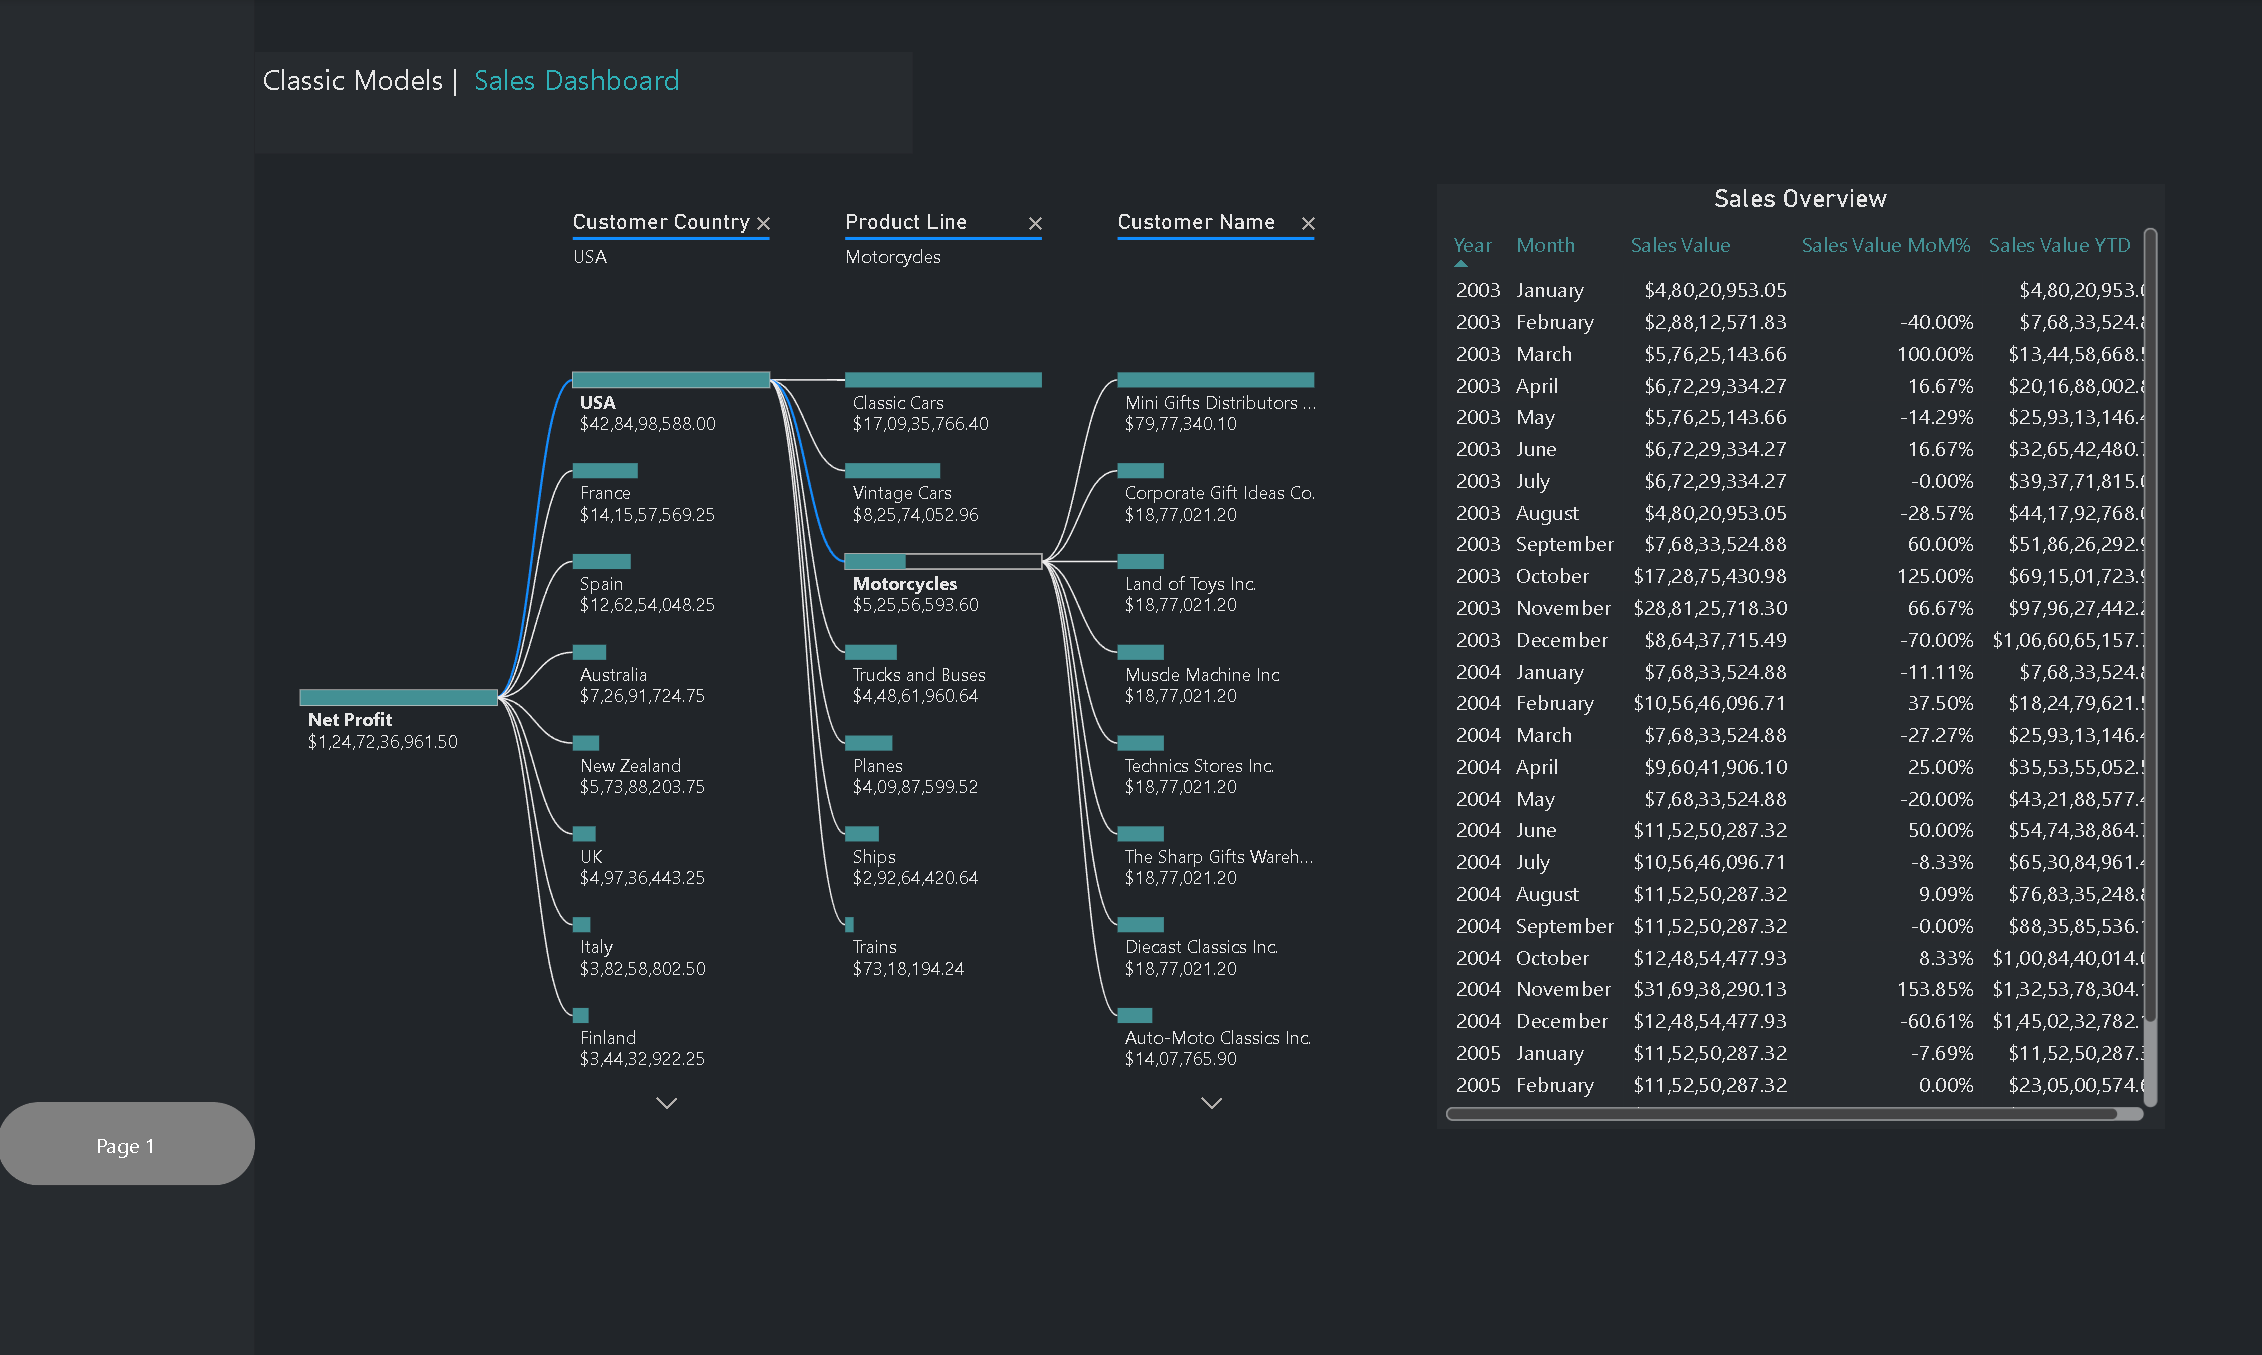

What the dashboard file says about the page in this screenshot:
{"tool":"powerbi","page":{"name":"Sales Overview Page 2","canvas":[1500,900],"ordinal":0},"visuals":[{"type":"shape","box":[0,0,170,899.6],"z":0},{"type":"decompositionTreeVisual","fields":{"Analyze":["classicmodelss sales_data_for_power_bi.Net Profit"],"ExplainBy":["classicmodelss sales_data_for_power_bi.customer_country","classicmodelss sales_data_for_power_bi.productLine","classicmodelss sales_data_for_power_bi.customerName"]},"box":[170.7,122.4,746.6,656.9],"z":1000},{"type":"textbox","box":[170.7,36.2,434.5,67.2],"z":2000},{"type":"tableEx","title":"Sales Overview","fields":{"Values":["classicmodelss sales_data_for_power_bi.orderDate.Variation.Date Hierarchy.Year","classicmodelss sales_data_for_power_bi.orderDate.Variation.Date Hierarchy.Month","Sum(classicmodelss sales_data_for_power_bi.sales_value)","Table.sales_value MoM%","Table.sales_value YTD"]},"box":[951.7,122.4,481,624.1],"z":3000},{"type":"actionButton","box":[0,729.3,170.7,55.2],"z":4000}]}

Visuals, with their boxes on the page's 1500x900 design canvas (x1, y1, x2, y2). These are canvas units, not pixel positions in the 2262x1355 screenshot, which may show the page scaled, cropped or inside an application window:
shape: select_region(0, 0, 170, 900)
decompositionTreeVisual - classicmodelss sales_data_for_power_bi.Net Profit x classicmodelss sales_data_for_power_bi.customer_country: select_region(171, 122, 917, 779)
textbox: select_region(171, 36, 605, 103)
"Sales Overview" tableEx: select_region(952, 122, 1433, 746)
actionButton: select_region(0, 729, 171, 784)
